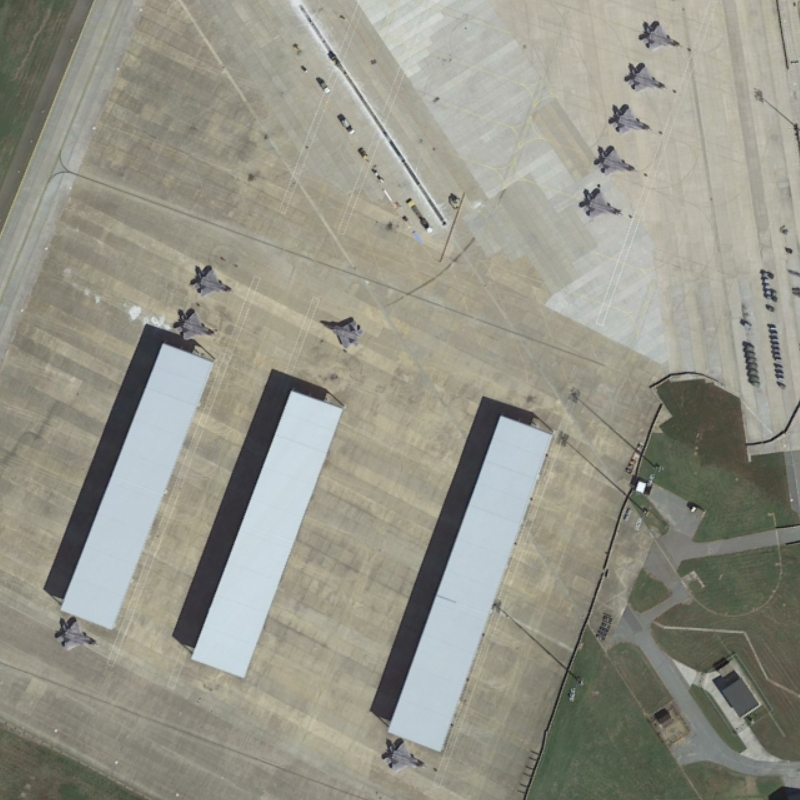A15: (53, 616, 102, 655), (170, 307, 221, 344), (379, 736, 429, 773), (637, 17, 686, 54), (592, 143, 642, 177), (188, 263, 235, 298), (579, 188, 627, 222), (320, 315, 366, 350), (608, 102, 655, 135), (625, 63, 669, 93)
